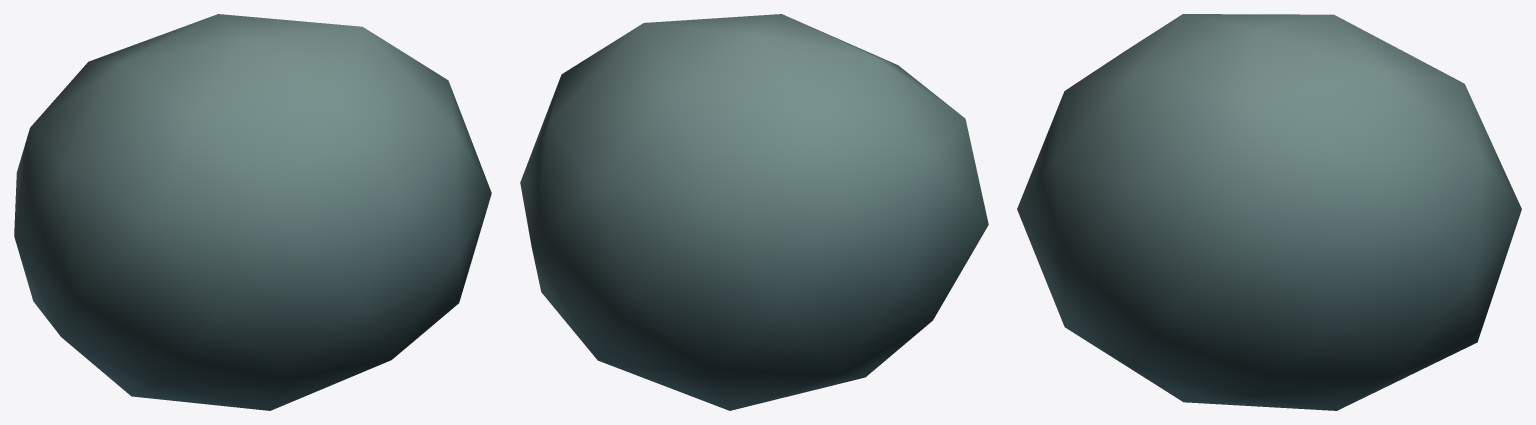
Rendered from shrub_s.glb.
The picture shows the model from 3 angles, left to right: view 1: azimuth 30°, elevation 25°; view 2: azimuth 150°, elevation 25°; view 3: azimuth 270°, elevation 25°; orthographic projection. The views are drawn at different scales.
Visible parts, largest first — view 1: ShrubS; view 2: ShrubS; view 3: ShrubS.
Part boxes in pixels (x1,y1,x2,y2): ShrubS: (14,14,491,410); ShrubS: (520,14,988,410); ShrubS: (1017,14,1521,410).
Size of the model in its own units: 0.8726 by 0.717 by 0.8995.
